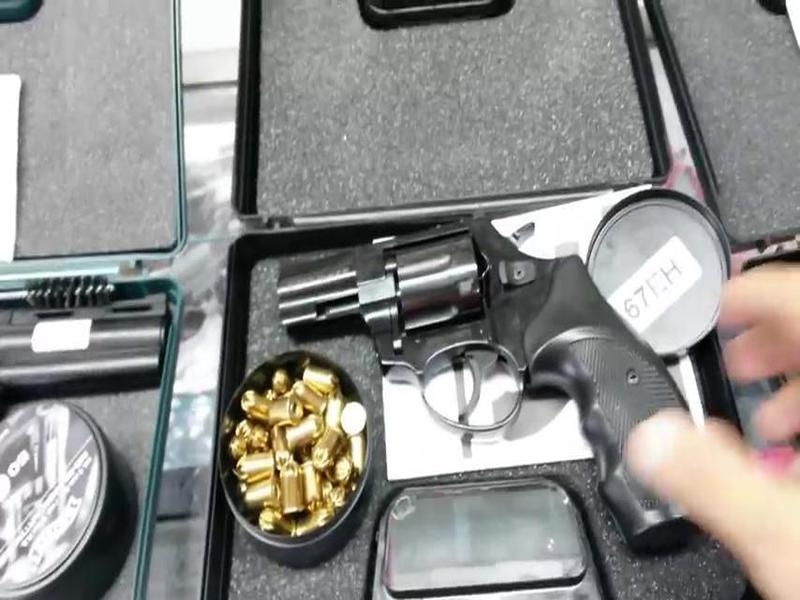Revolver: (257, 237, 717, 519)
